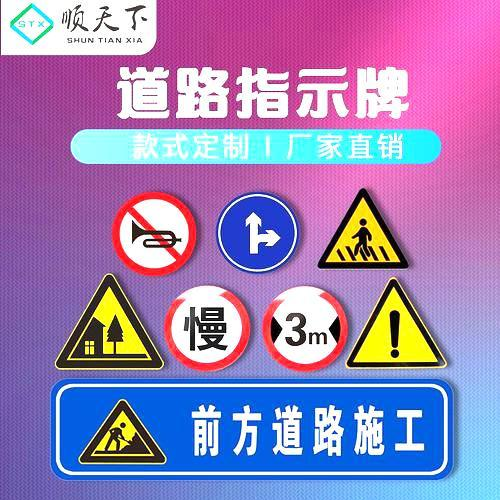sign: (50, 382, 442, 477)
